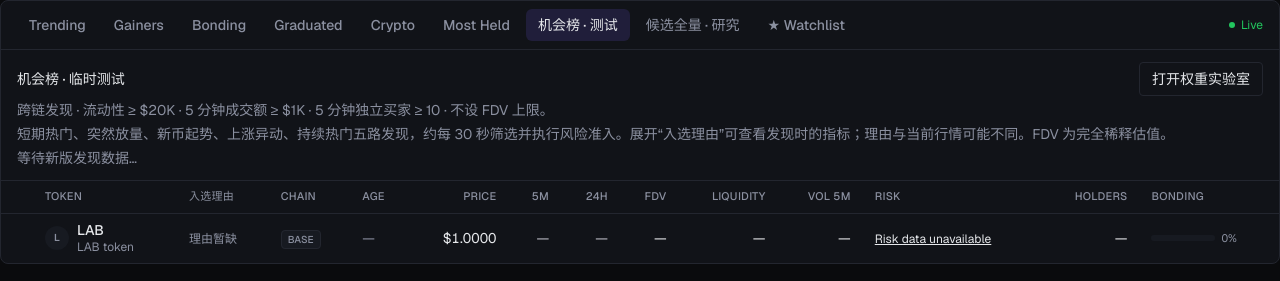
Scenario: 切到自选释放实验榜，迟到的实验帧不能进入Trending
Click the button "★ Watchlist".
click(806, 25)  # box [756,9,857,41]
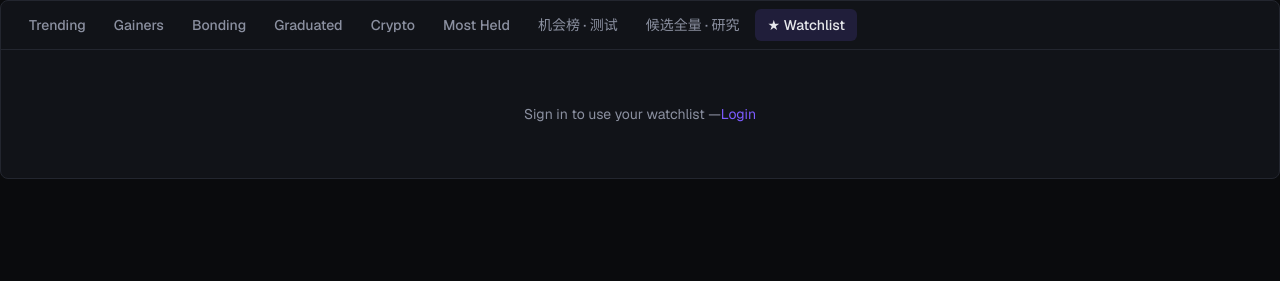
Click the button "Trending".
click(57, 25)  # box [17,9,98,41]
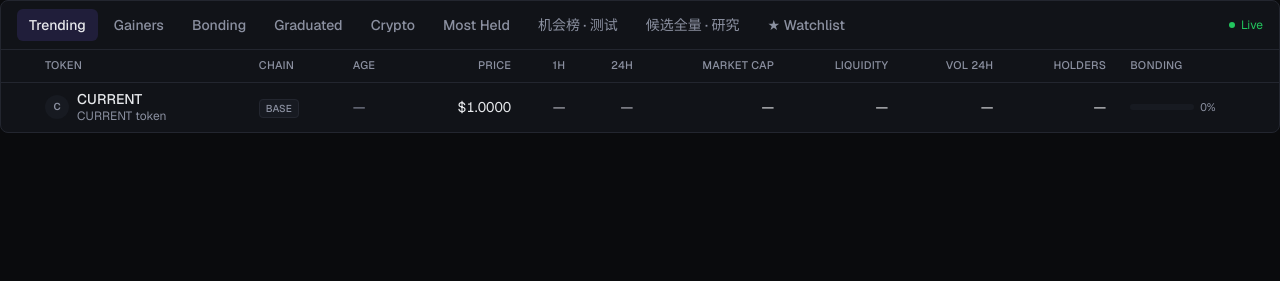
Now the text "CURRENT" is shown, box [77,90,142,108]
